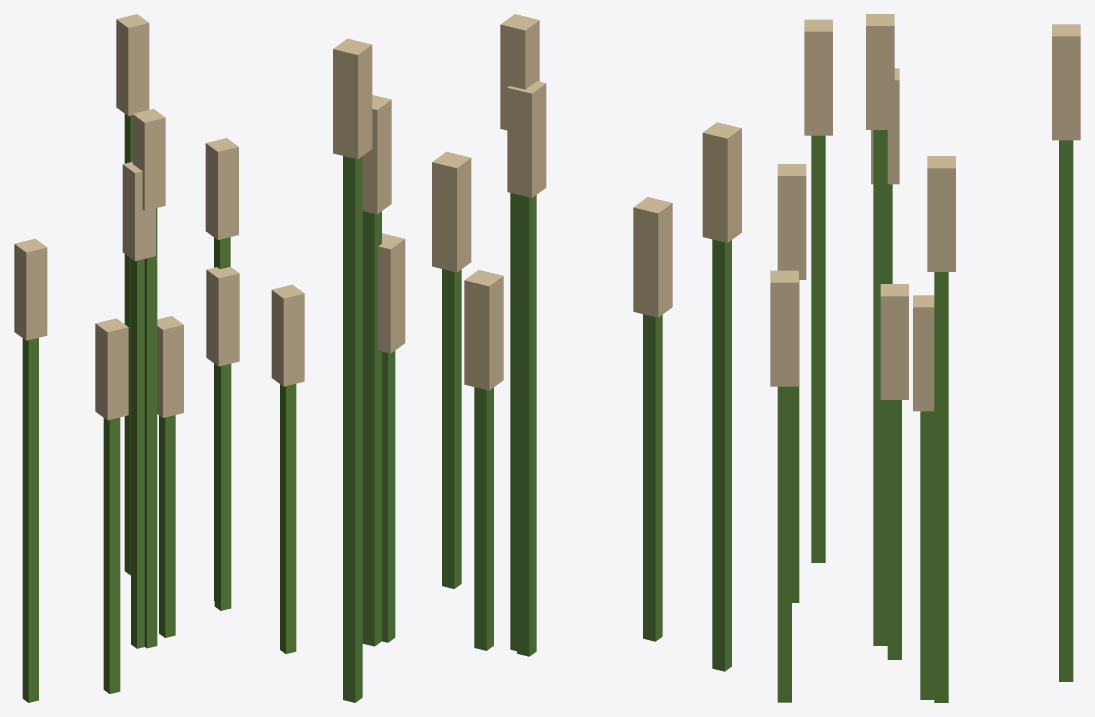
The model's file is reeds.glb.
3 views of the same model, side by side, from view 1: azimuth 30°, elevation 25°; view 2: azimuth 150°, elevation 25°; view 3: azimuth 270°, elevation 25° (orthographic). The views are drawn at different scales.
Visible parts, largest first — view 1: green__green, pale__pale; view 2: green__green, pale__pale; view 3: green__green, pale__pale.
Boxes of the visible parts, x1,y1,x2,y2 form: green__green: (22,114,296,702); pale__pale: (14,14,304,420); green__green: (343,156,731,702); pale__pale: (333,14,741,390); green__green: (777,130,1073,702); pale__pale: (770,14,1080,411).
Size of the model in its own units: 0.6284 by 1.25 by 0.5413.
